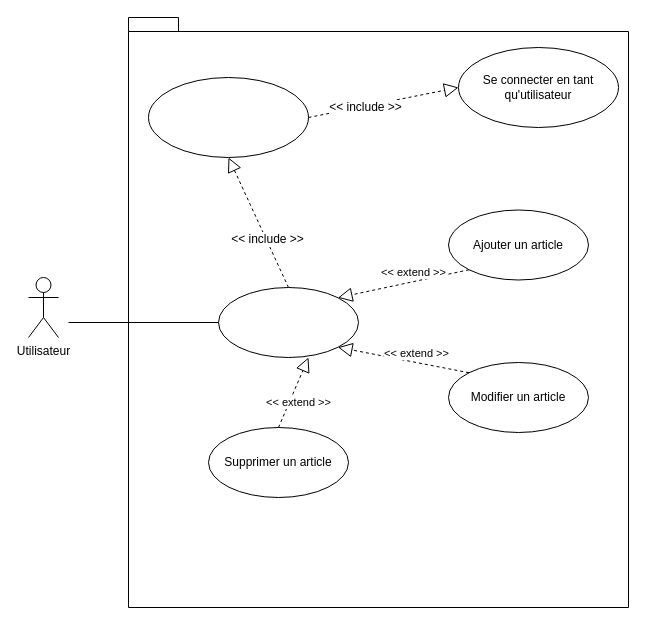
Image size: 646x625. Some labels were removed from this diagram. The shapes that lost their labels are listed below. From the top down, each one's box as (x1, y1, x2, y2) in pixels, then its label:
(148, 76, 308, 158): Accéder à la page de l'utilisateur
(218, 286, 358, 358): Consulter les articles
